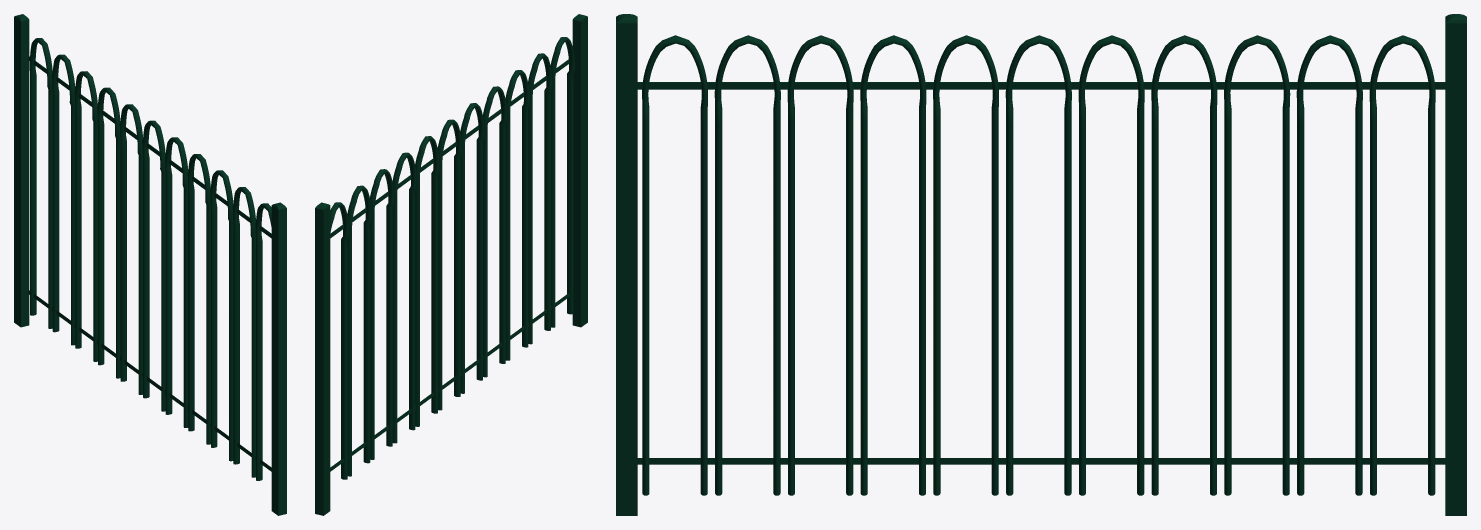
File: green round fence all parts.fbx
3 views of the same model, side by side, from view 1: azimuth 30°, elevation 25°; view 2: azimuth 150°, elevation 25°; view 3: azimuth 270°, elevation 25° (orthographic). The views are drawn at different scales.
Parts seen in each view (by area): view 1: sidepost left; view 2: sidepost left; view 3: sidepost left.
Boxes of the visible parts, x1,y1,x2,y2 form: sidepost left: (14,14,286,515); sidepost left: (315,14,587,515); sidepost left: (616,14,1466,515).
Size of the model in its own units: 0.4024 by 16.15 by 10.4.
